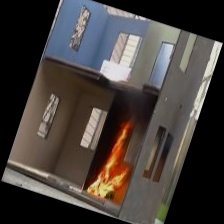fire: (88, 119, 145, 204)
